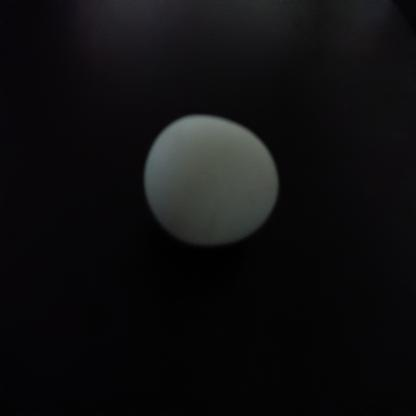egg: (141, 112, 280, 247)
